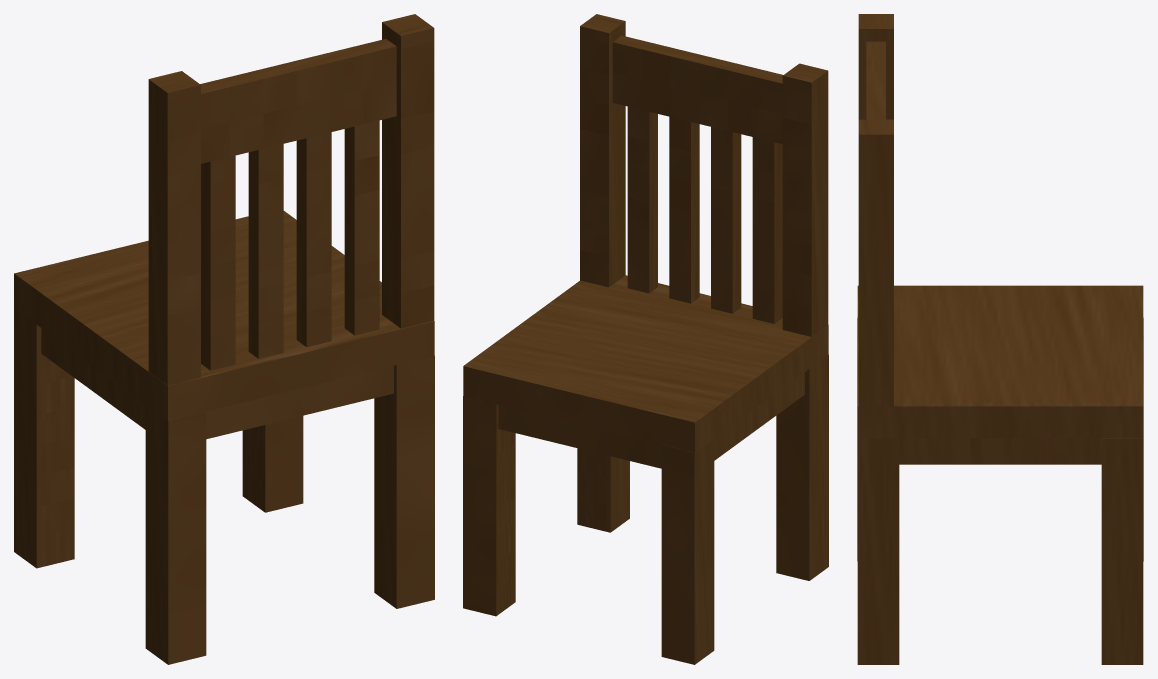
Rendered from kitchen_wooden_chair.obj.
3 views of the same model, side by side, from view 1: azimuth 30°, elevation 25°; view 2: azimuth 150°, elevation 25°; view 3: azimuth 270°, elevation 25° (orthographic). The views are drawn at different scales.
Parts seen in each view (by area): view 1: Cube.009_Cube.010; view 2: Cube.009_Cube.010; view 3: Cube.009_Cube.010.
Boxes of the visible parts, x1=… form: Cube.009_Cube.010: x1=14, y1=14, x2=434, y2=664; Cube.009_Cube.010: x1=463, y1=14, x2=828, y2=664; Cube.009_Cube.010: x1=857, y1=14, x2=1143, y2=664.
Bounding box in the file's own units: 1.73 × 3.54 × 1.73.
